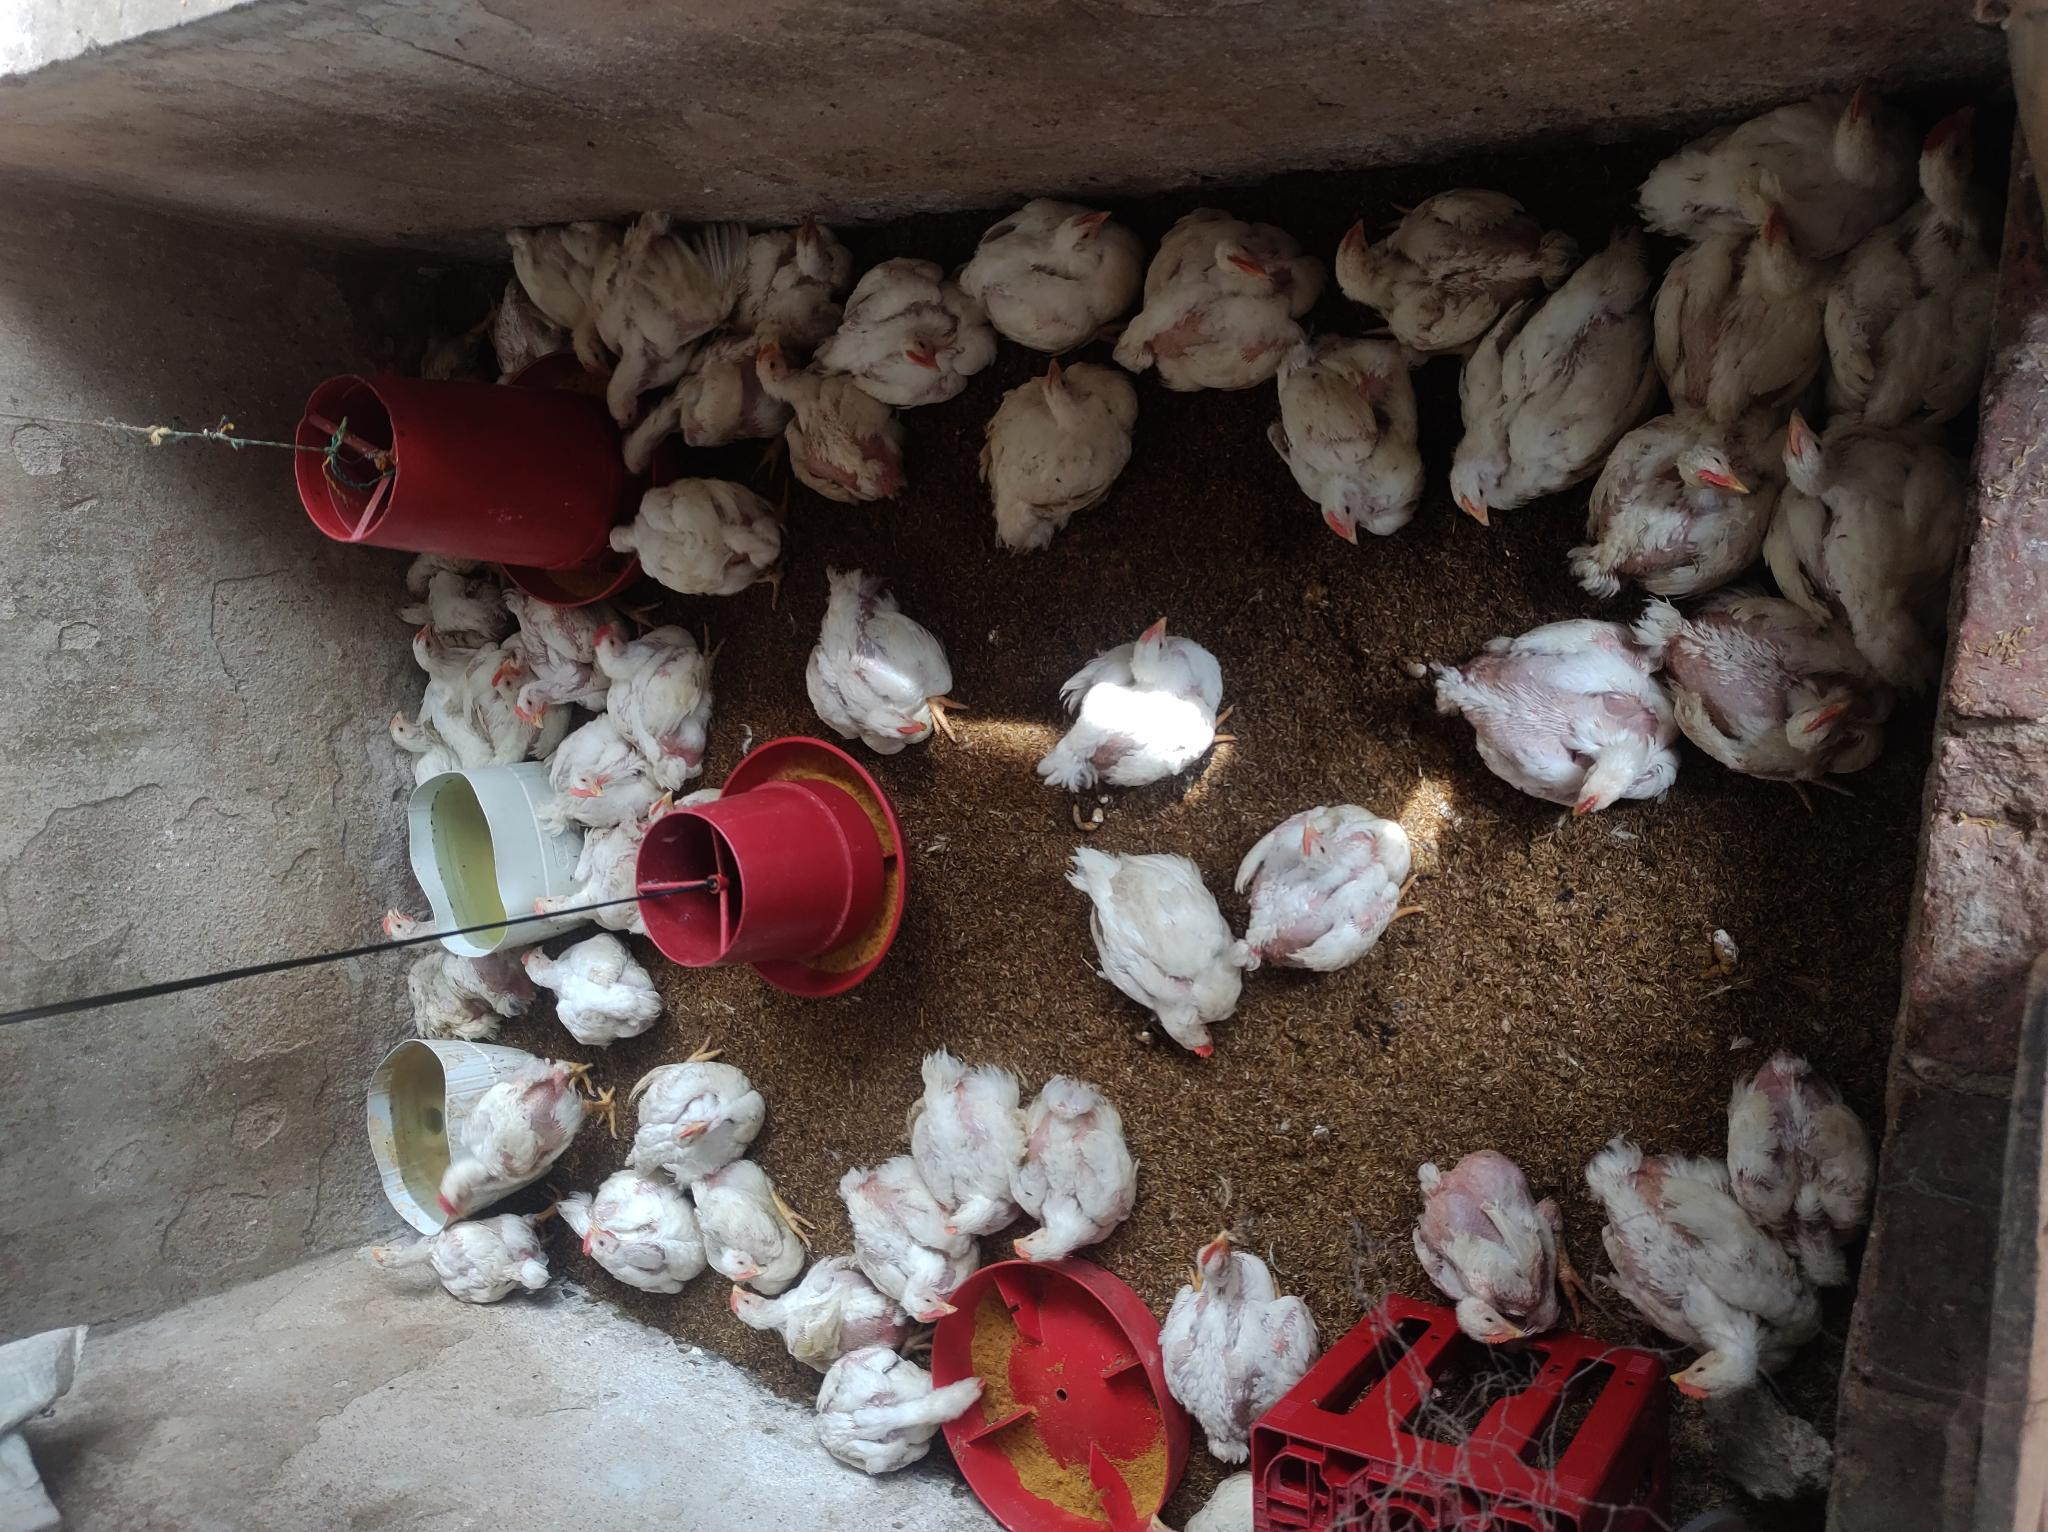Pollos: (1572, 1136, 1824, 1411), (1832, 97, 2034, 409), (1448, 254, 1659, 529), (1663, 571, 1892, 813), (1773, 407, 1976, 665), (1433, 615, 1672, 829), (1641, 80, 1911, 246), (1733, 1041, 1908, 1287), (1334, 164, 1561, 348), (1142, 1223, 1326, 1439), (1400, 1143, 1575, 1352), (1663, 203, 1832, 418), (1036, 610, 1231, 790), (1585, 412, 1770, 599), (1137, 198, 1321, 386), (1282, 338, 1432, 557), (817, 562, 970, 766), (957, 177, 1137, 349), (989, 359, 1147, 554), (423, 1056, 594, 1220), (837, 1149, 985, 1329), (750, 348, 920, 504), (816, 245, 981, 402), (800, 1347, 997, 1477), (1017, 1072, 1145, 1270), (896, 1057, 1031, 1236), (600, 476, 783, 605), (372, 1183, 550, 1307), (589, 621, 722, 785), (611, 336, 764, 476), (510, 920, 668, 1048), (714, 1270, 899, 1378), (615, 1056, 779, 1173), (376, 904, 507, 1044), (595, 224, 705, 385), (566, 1173, 701, 1297), (695, 1162, 812, 1300), (508, 216, 607, 380), (516, 835, 664, 933), (520, 597, 618, 737), (738, 220, 848, 343), (544, 721, 664, 829), (1142, 1468, 1282, 1532), (487, 269, 555, 396), (409, 291, 486, 396), (652, 777, 734, 867), (365, 583, 500, 636), (402, 626, 496, 692), (401, 537, 484, 583), (388, 713, 463, 761), (492, 661, 533, 700)
